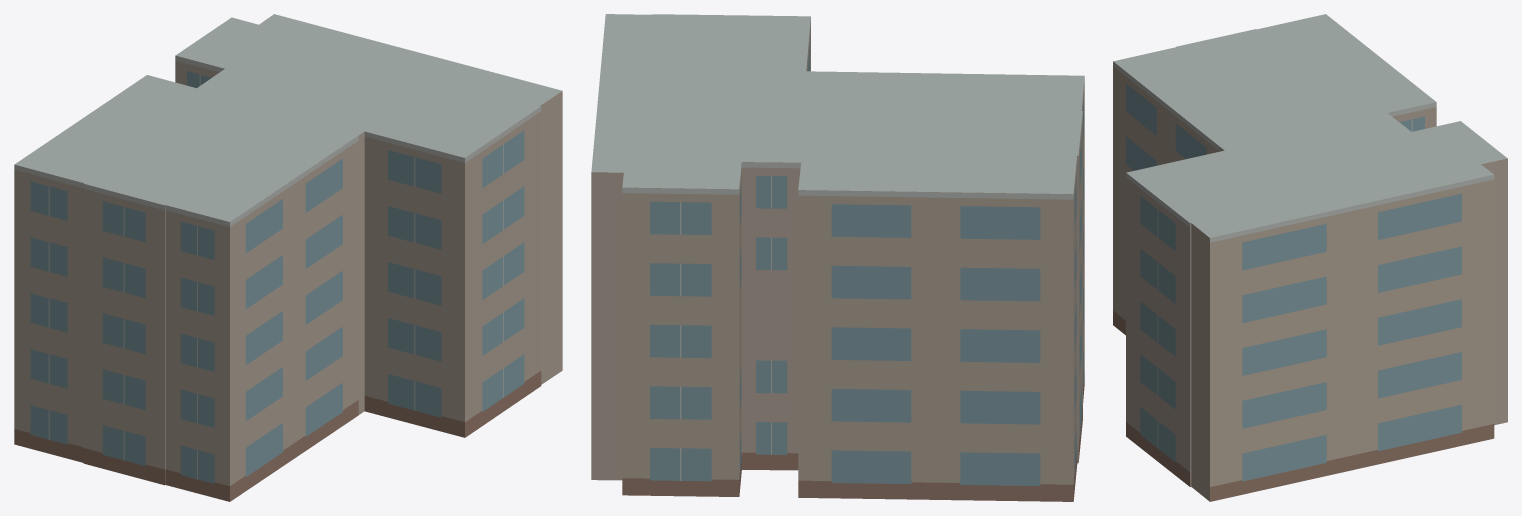
The model's file is survey-upis-32840847.glb.
3 views of the same model, side by side, from view 1: azimuth 30°, elevation 25°; view 2: azimuth 150°, elevation 25°; view 3: azimuth 270°, elevation 25° (orthographic). The views are drawn at different scales.
Visible parts, largest first — view 1: survey-upis-32840847.tmp; view 2: survey-upis-32840847.tmp; view 3: survey-upis-32840847.tmp.
Part boxes in pixels (box(x1,y1,x2,y2)): survey-upis-32840847.tmp: box(14, 14, 562, 501); survey-upis-32840847.tmp: box(591, 14, 1084, 501); survey-upis-32840847.tmp: box(1113, 14, 1507, 501).
Size of the model in its own units: 24.59 by 13.5 by 18.31.
